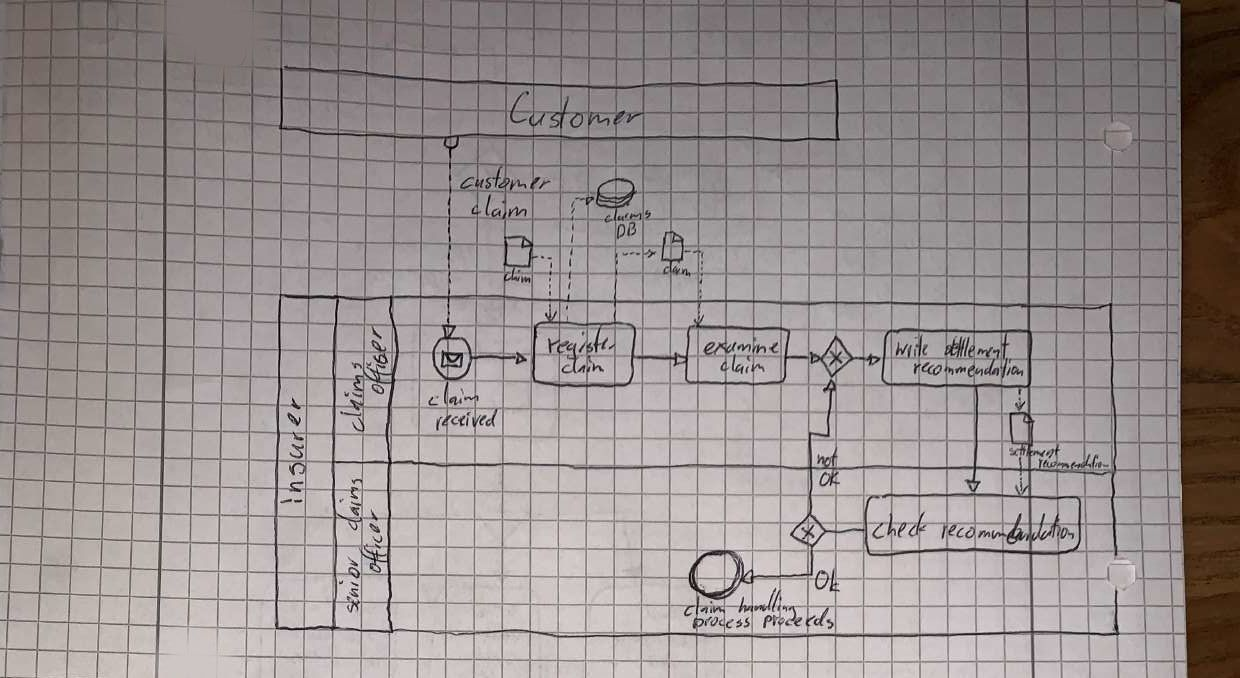Customer: (504, 86, 653, 137)
DB: (612, 219, 642, 242)
OK: (814, 468, 846, 492)
Ok: (811, 565, 844, 599)
Settlement: (939, 327, 1016, 366)
check: (867, 507, 932, 545)
claim: (466, 189, 534, 225), (422, 378, 486, 412), (678, 590, 731, 623), (715, 351, 772, 379), (555, 352, 611, 380), (498, 265, 538, 289), (658, 259, 697, 282)
claims: (334, 354, 370, 439), (332, 473, 368, 536), (598, 201, 658, 227)
customer: (455, 162, 559, 196)
examine: (698, 332, 787, 363)
handling: (732, 584, 802, 626)
insurer: (273, 391, 312, 509)
not: (813, 442, 844, 471)
officer: (358, 320, 401, 402), (355, 505, 392, 581)
proceeds: (758, 604, 839, 634)
process: (689, 611, 754, 637)
received: (431, 404, 503, 435)
recomendation: (934, 509, 1081, 548)
recommendation: (908, 354, 1029, 382), (1033, 451, 1113, 475)
register: (542, 320, 623, 366)
senior: (335, 551, 365, 619)
settlement: (1004, 441, 1066, 463)
write: (890, 331, 934, 364)
